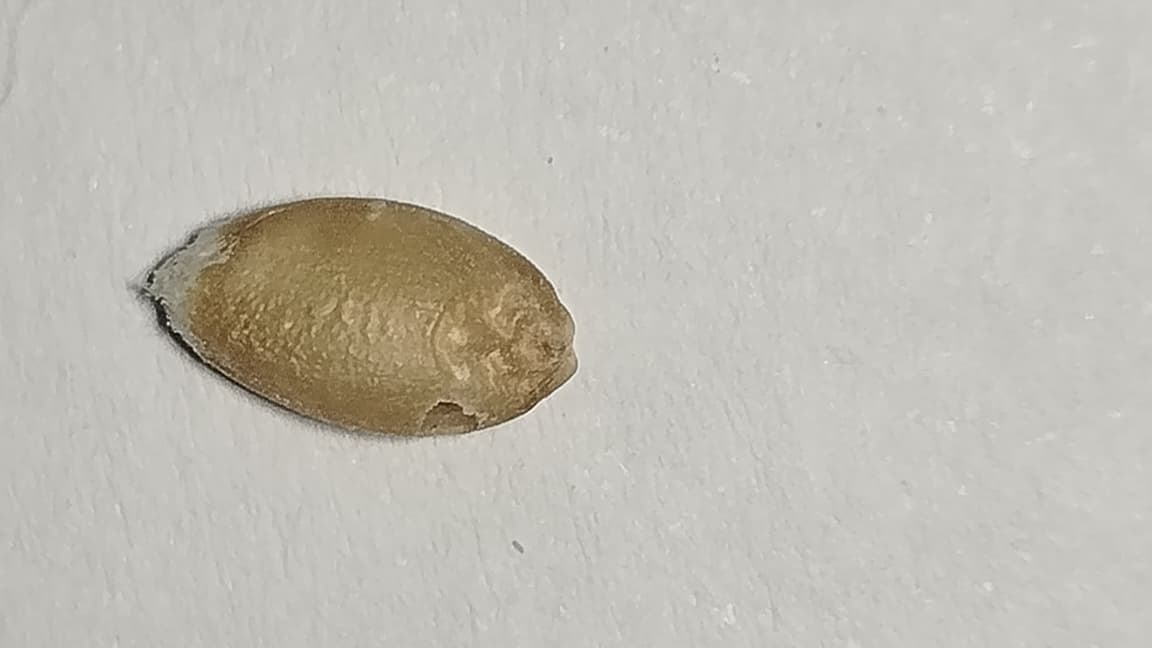damage: (146, 196, 576, 436)
insectdamage: (404, 367, 530, 446)
